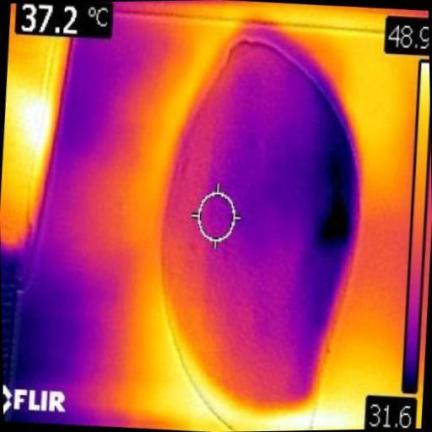mango: (161, 29, 358, 407)
